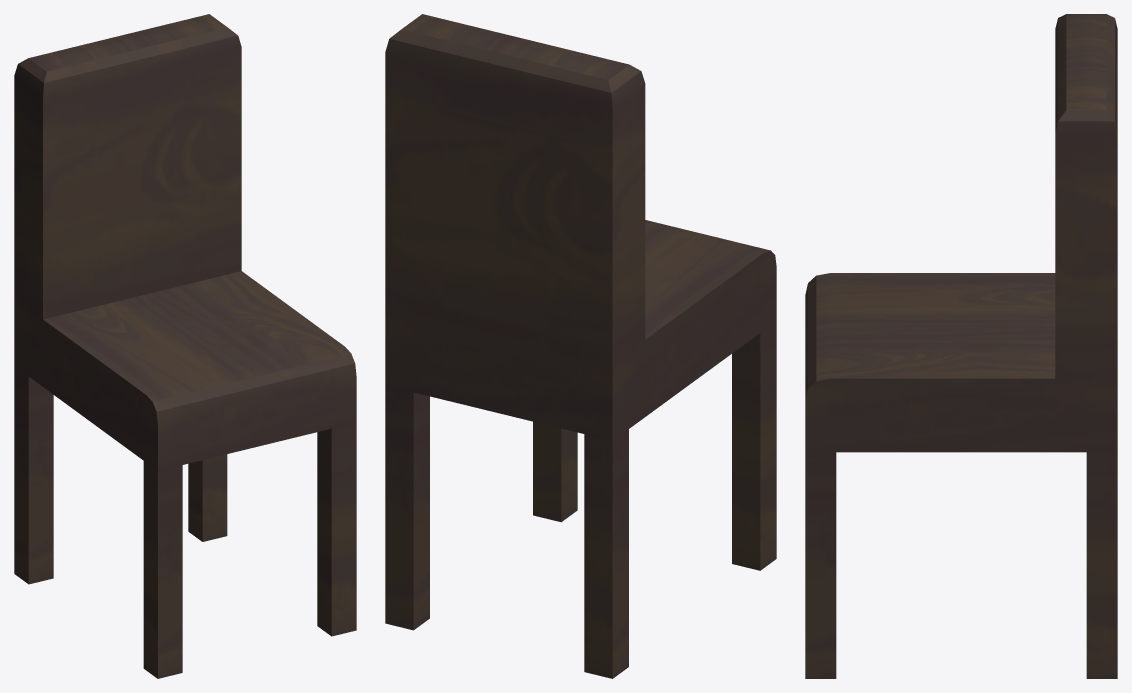
The model's file is chair.fbx.
The picture shows the model from 3 angles, left to right: view 1: azimuth 30°, elevation 25°; view 2: azimuth 150°, elevation 25°; view 3: azimuth 270°, elevation 25°; orthographic projection. The views are drawn at different scales.
Visible parts, largest first — view 1: chair.001; view 2: chair.001; view 3: chair.001.
Boxes of the visible parts, x1,y1,x2,y2 form: chair.001: [14, 14, 356, 678]; chair.001: [385, 14, 776, 678]; chair.001: [805, 14, 1117, 678].
Bounding box in the file's own units: 0.4434 × 1.11 × 0.5542.
Materials: 1 (1 with a texture image).
